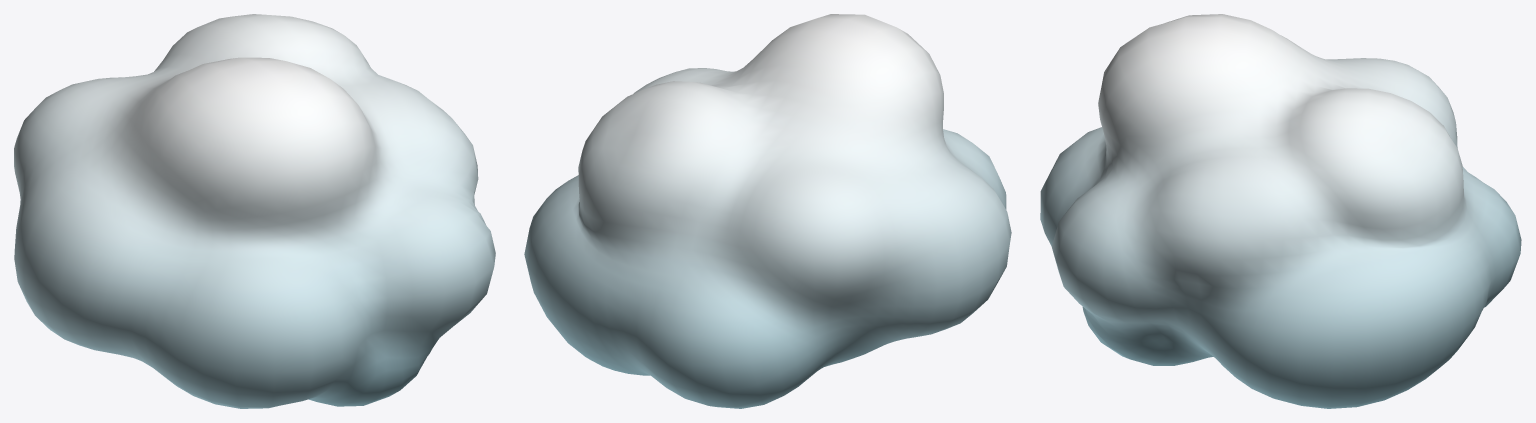
File: SM_Cloud_Fluffy.fbx
The picture shows the model from 3 angles, left to right: view 1: azimuth 30°, elevation 25°; view 2: azimuth 150°, elevation 25°; view 3: azimuth 270°, elevation 25°; orthographic projection. The views are drawn at different scales.
Parts seen in each view (by area): view 1: SM_Cloud_Fluffy; view 2: SM_Cloud_Fluffy; view 3: SM_Cloud_Fluffy.
Part boxes in pixels (x1,y1,x2,y2): SM_Cloud_Fluffy: [14, 14, 495, 408]; SM_Cloud_Fluffy: [524, 14, 1011, 408]; SM_Cloud_Fluffy: [1040, 14, 1521, 408].
Size of the model in its own units: 399 by 281 by 401.
